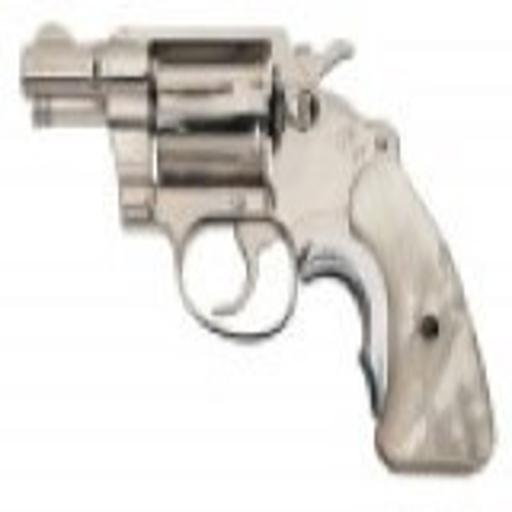Handgun: (18, 24, 491, 476)
